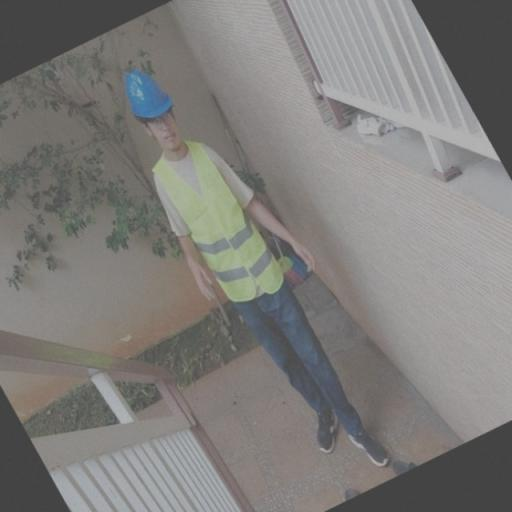Person: (100, 58, 420, 482), (109, 54, 401, 482)
boots: (346, 428, 396, 478), (308, 406, 349, 458)
helmet: (112, 59, 192, 121)
none: (284, 237, 334, 284), (176, 260, 226, 306)
vest: (138, 146, 297, 306)
